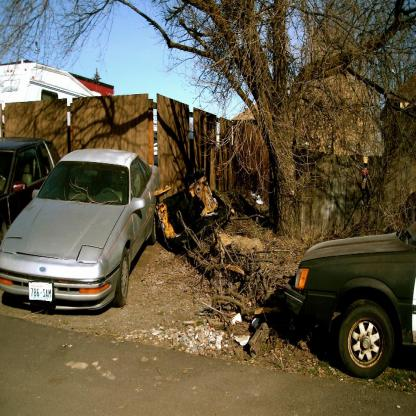Car: (5, 149, 153, 320), (284, 220, 416, 380), (1, 139, 63, 242), (4, 123, 6, 133)
